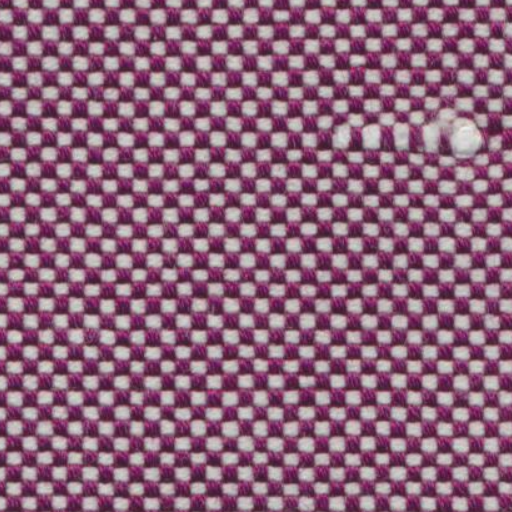DaiSha: (317, 98, 494, 174)
